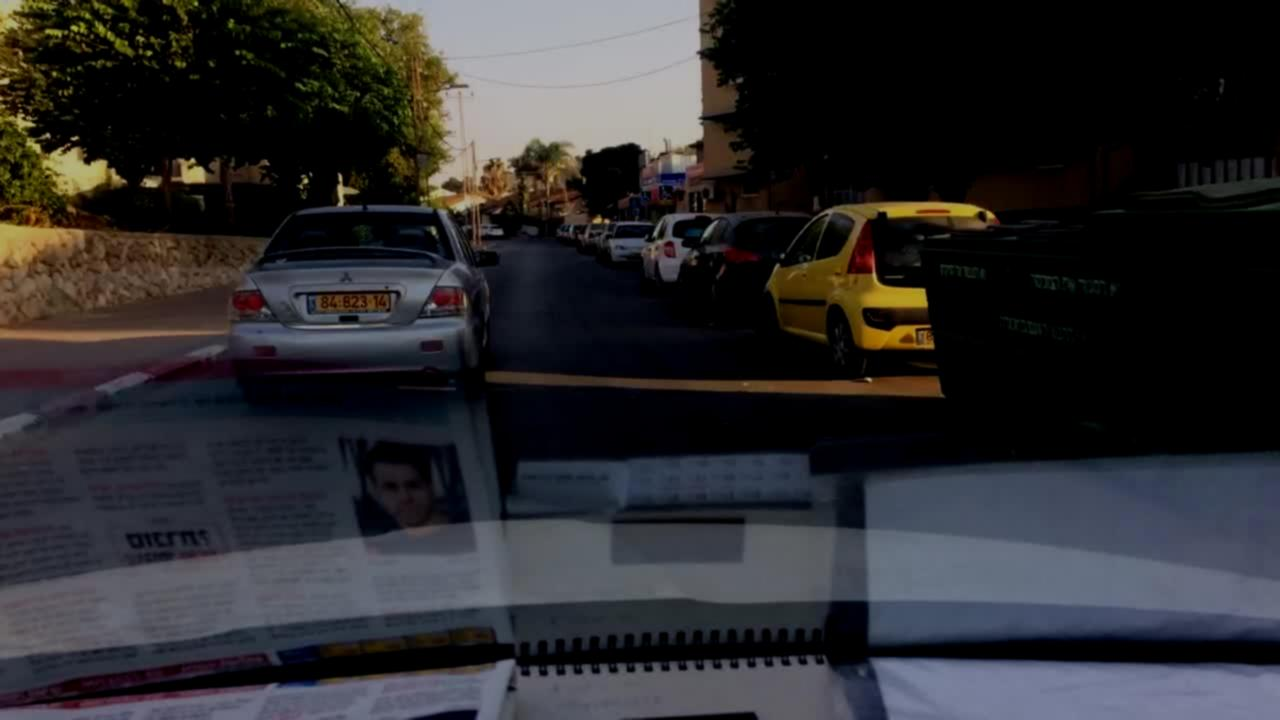Mitsubishi: (331, 265, 362, 287)
